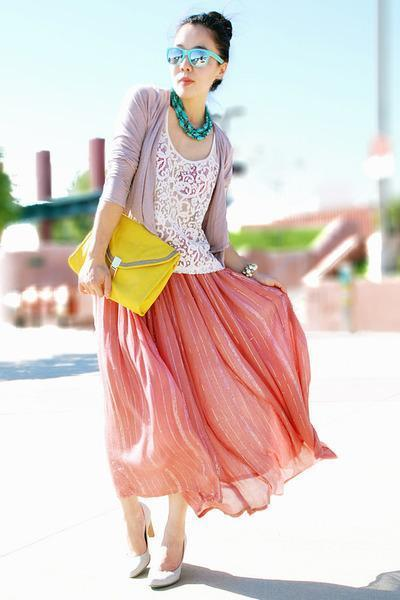bag: (68, 213, 180, 315)
jacket: (96, 89, 242, 293)
shirt: (156, 144, 229, 273)
shoe: (115, 546, 203, 587)
skirt: (103, 272, 336, 515)
